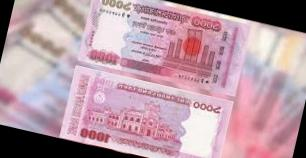1000 tk: (78, 0, 250, 97), (59, 66, 231, 158)
